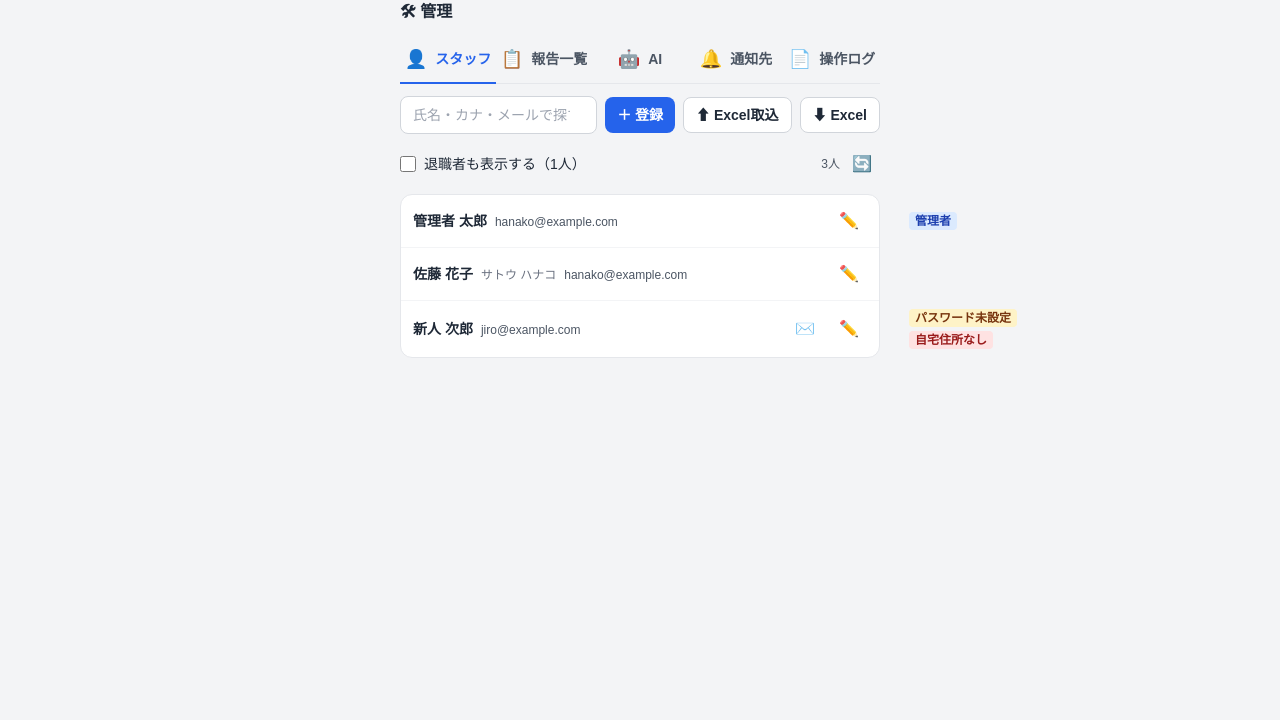
Test: 管理タブ: スタッフ › 編集: 変えた項目だけを版と一緒に送る。自分自身は役割・退職日を変えられず、削除も出さない
Click the button named "佐藤 花子さんを編集". click: [849, 274]
box: x1=831 y1=256 x2=867 y2=292
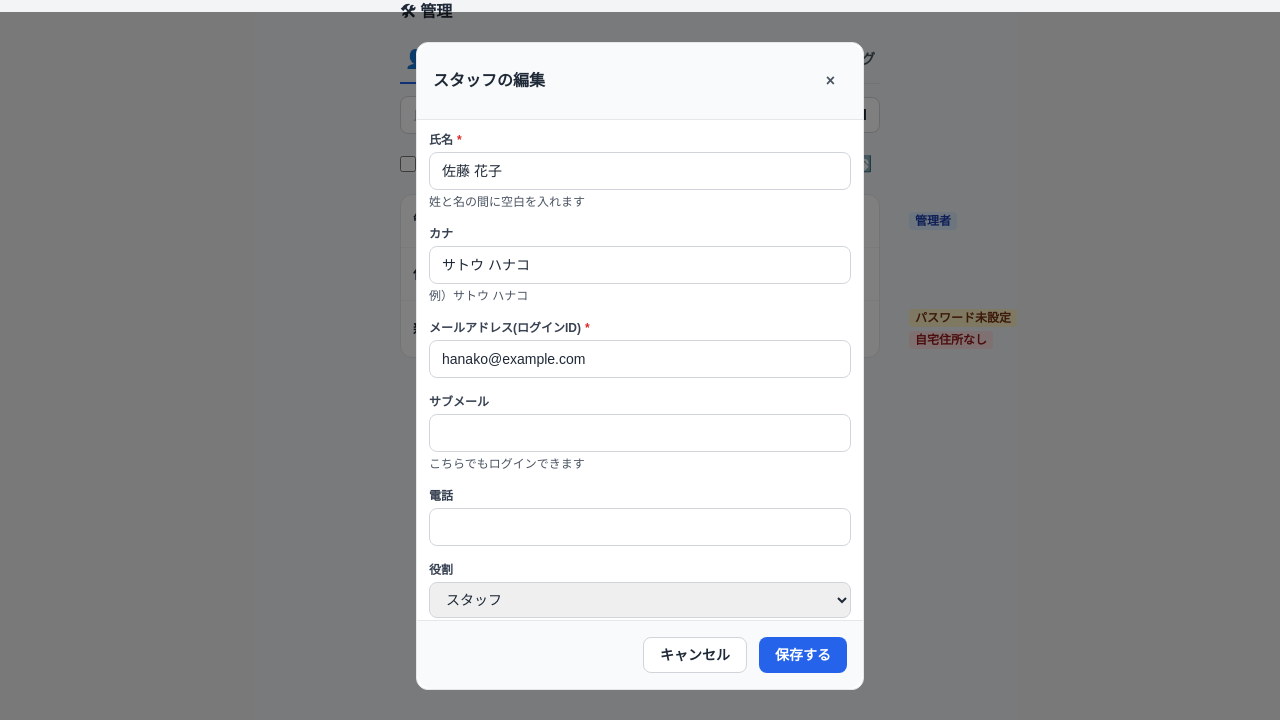
Type "090" into the field labelled "電話". click: [640, 527]
box: x1=429 y1=508 x2=851 y2=546
(page scrolled)
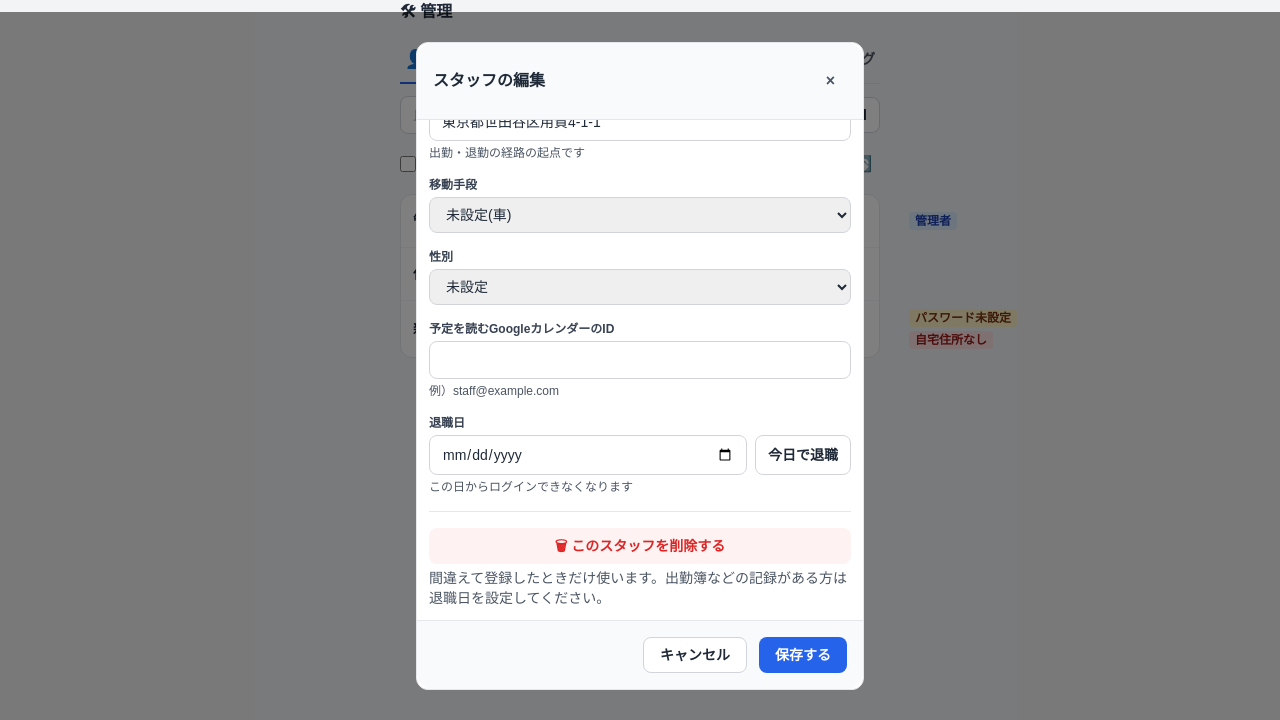
Click the button "今日で退職". click: [803, 455]
box: x1=755 y1=435 x2=851 y2=475
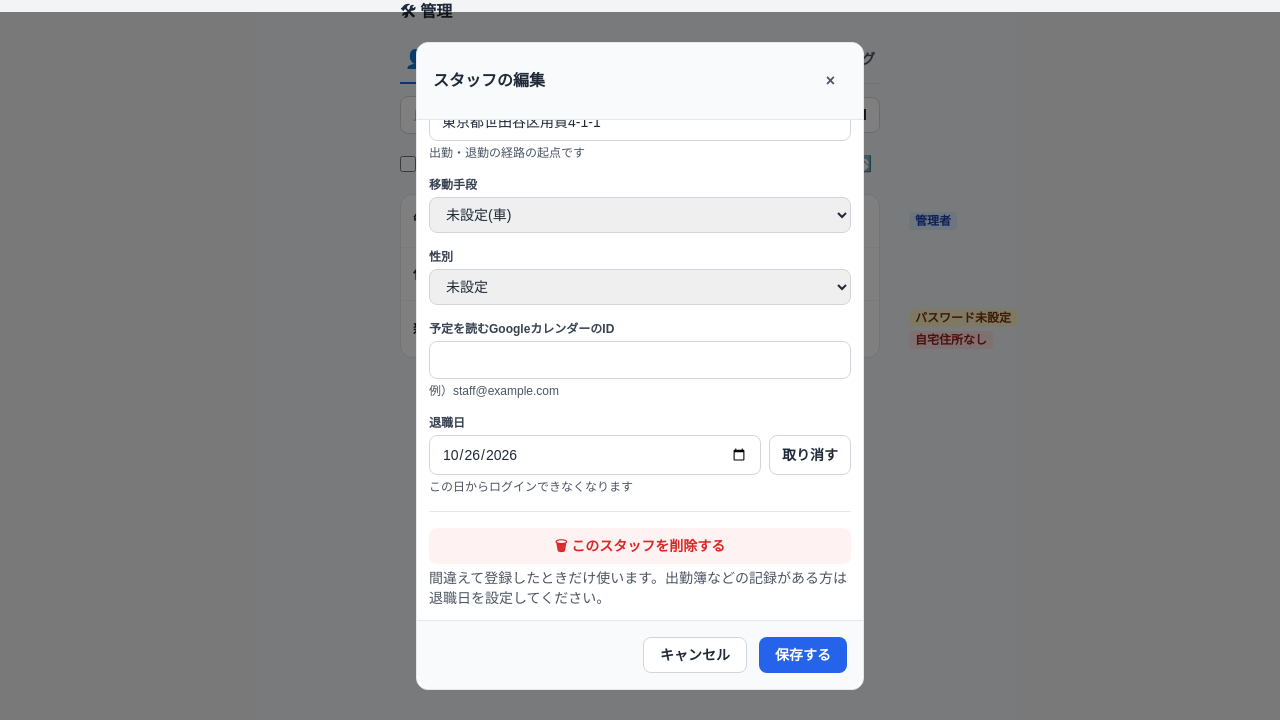
Click the button "保存する". click: [803, 655]
box: x1=759 y1=637 x2=847 y2=673
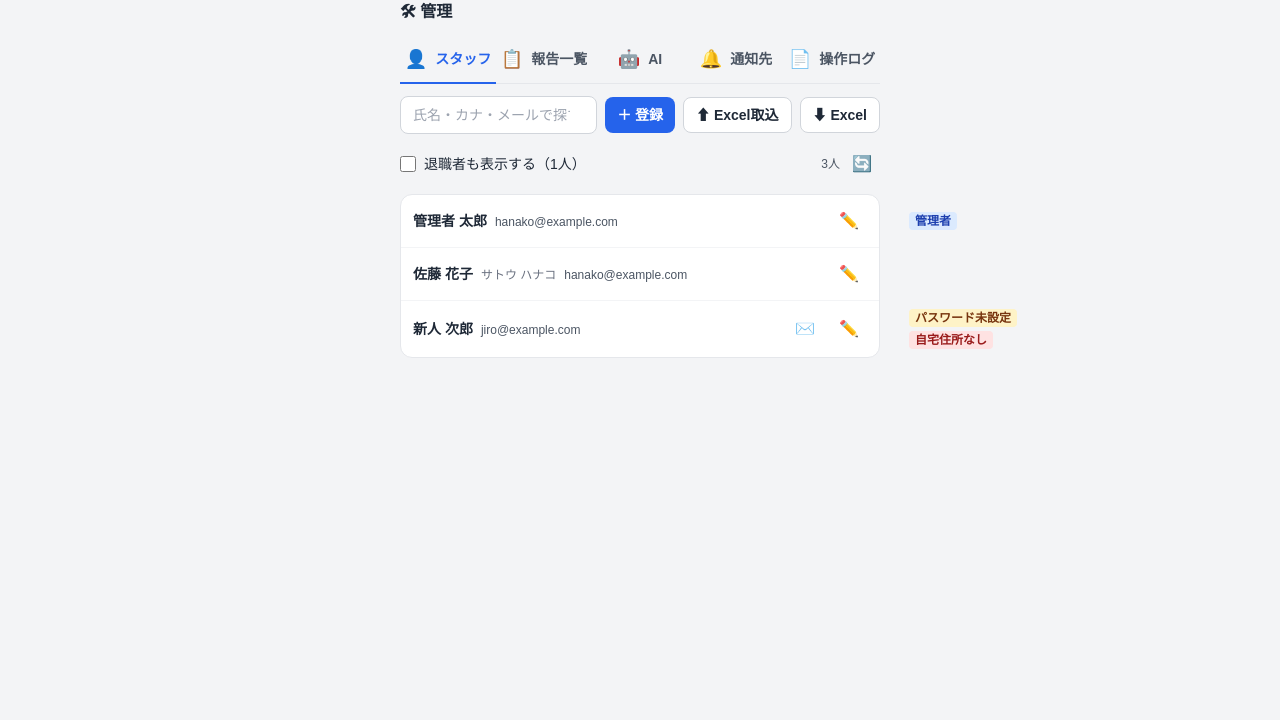
Check: the dialog is gone
Click the button "✏️" in the row of "管理者 太郎". click: [849, 221]
box: x1=831 y1=203 x2=867 y2=239
(page scrolled)
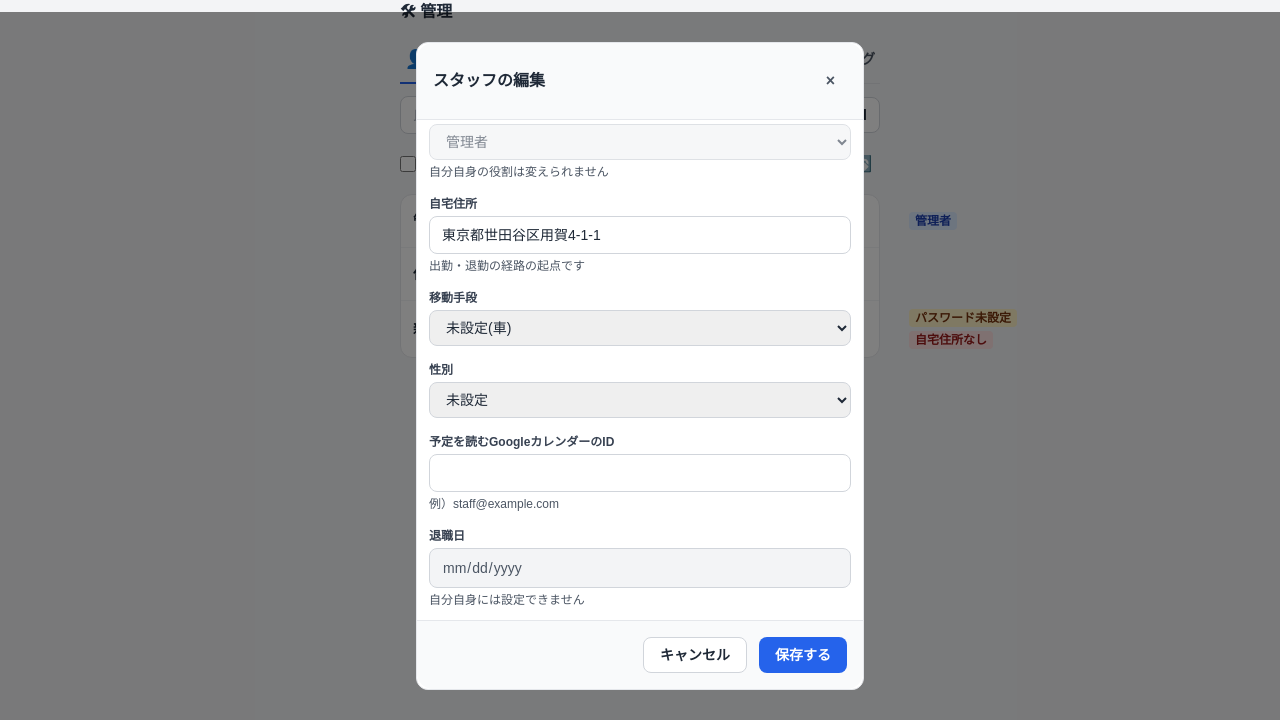
Check: the button "削除" is not shown
Check: the dropdown labelled "役割" is disabled, box x1=429 y1=124 x2=851 y2=160
Check: the date field labelled "退職日" is disabled, box x1=429 y1=548 x2=851 y2=588
